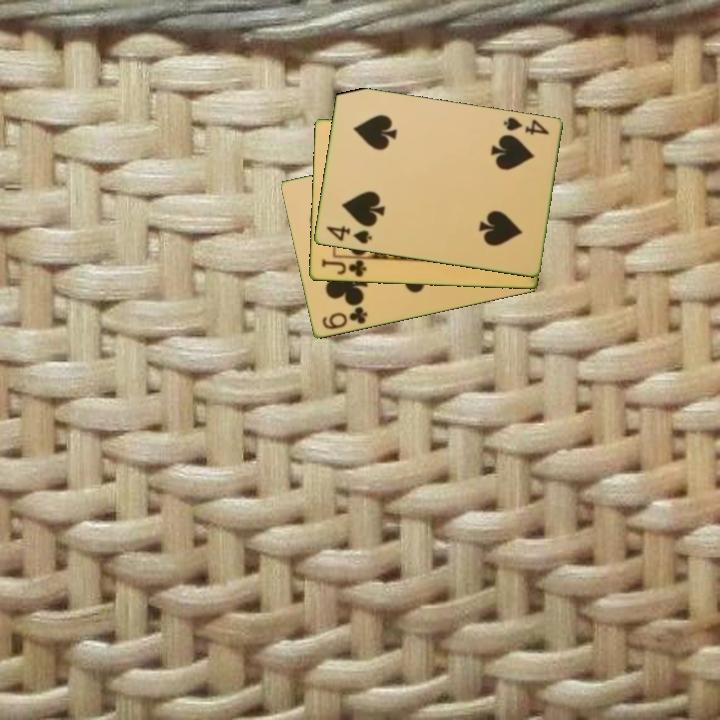4s: (499, 114, 552, 138), (323, 223, 374, 247)
6c: (318, 303, 370, 333)
Jc: (318, 256, 369, 280)
